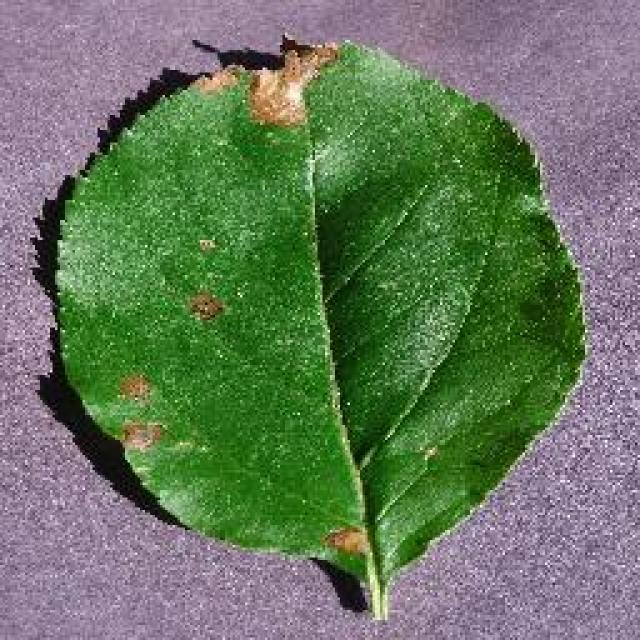apple healthy: (28, 30, 588, 618)
